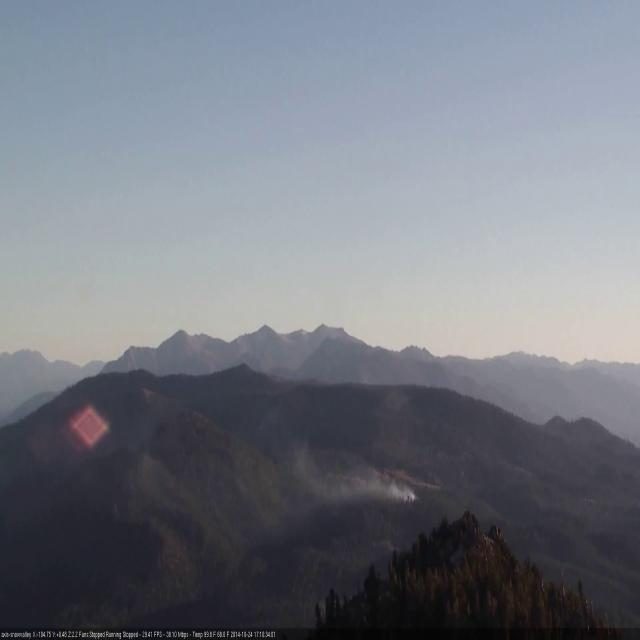smoke: (216, 376, 433, 524)
